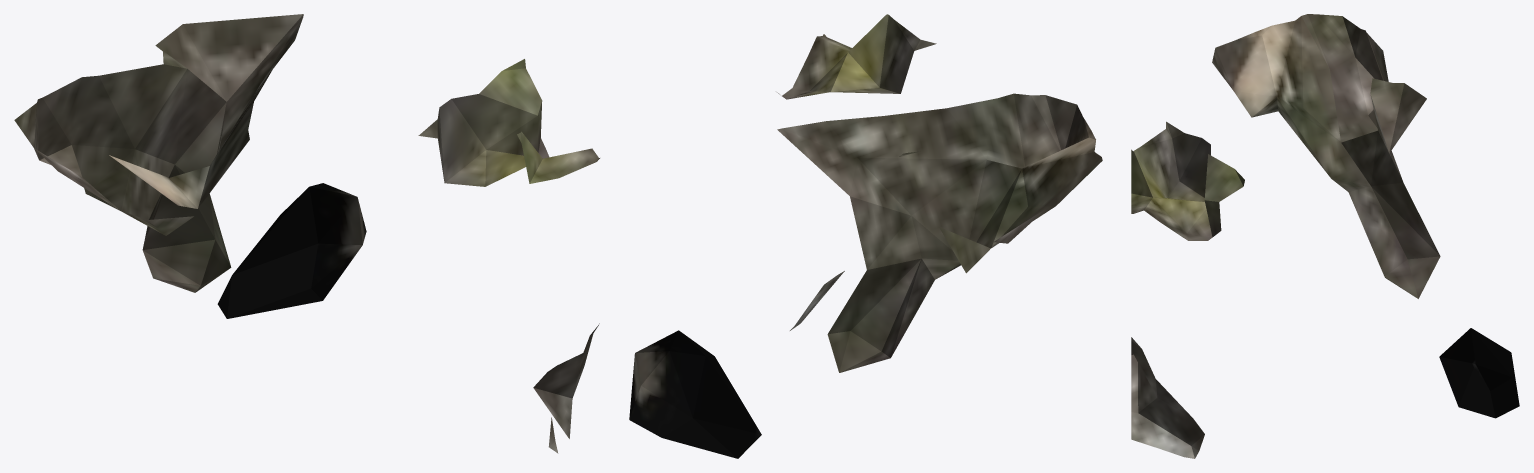
3 views of the same model, side by side, from view 1: azimuth 30°, elevation 25°; view 2: azimuth 150°, elevation 25°; view 3: azimuth 270°, elevation 25° (orthographic). The views are drawn at different scales.
Size of the model in its own units: 3.27 by 2.57 by 3.24.
Materials: 1 (1 with a texture image).
